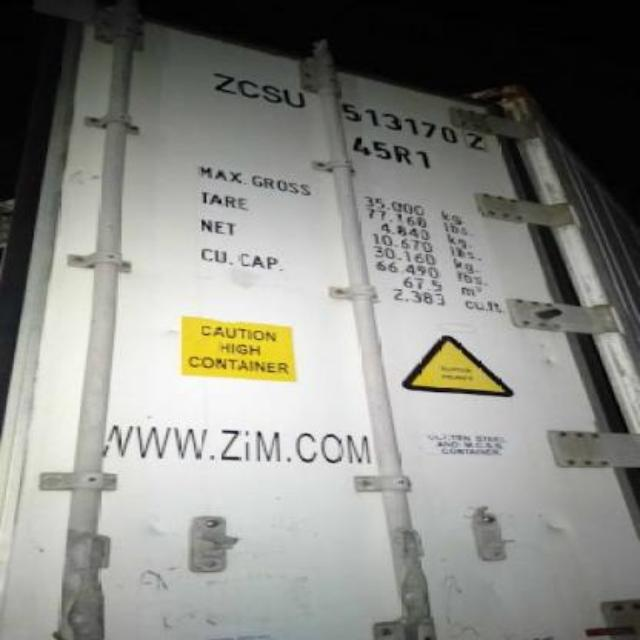0: (436, 127, 458, 143)
1: (362, 108, 382, 128), (402, 117, 418, 135)
2: (468, 133, 486, 151)
3: (380, 112, 404, 132)
5: (341, 103, 362, 123)
7: (418, 120, 438, 140)
C: (236, 79, 260, 99)
S: (262, 84, 282, 106)
U: (282, 89, 308, 109)
Z: (206, 73, 238, 93)
